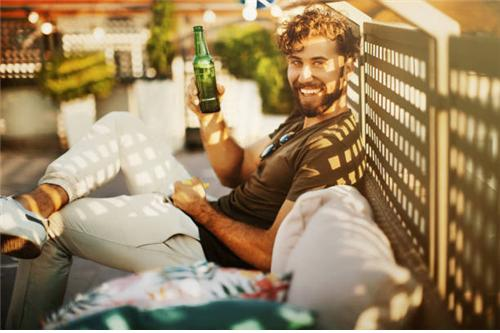alcohol: (193, 23, 223, 113)
